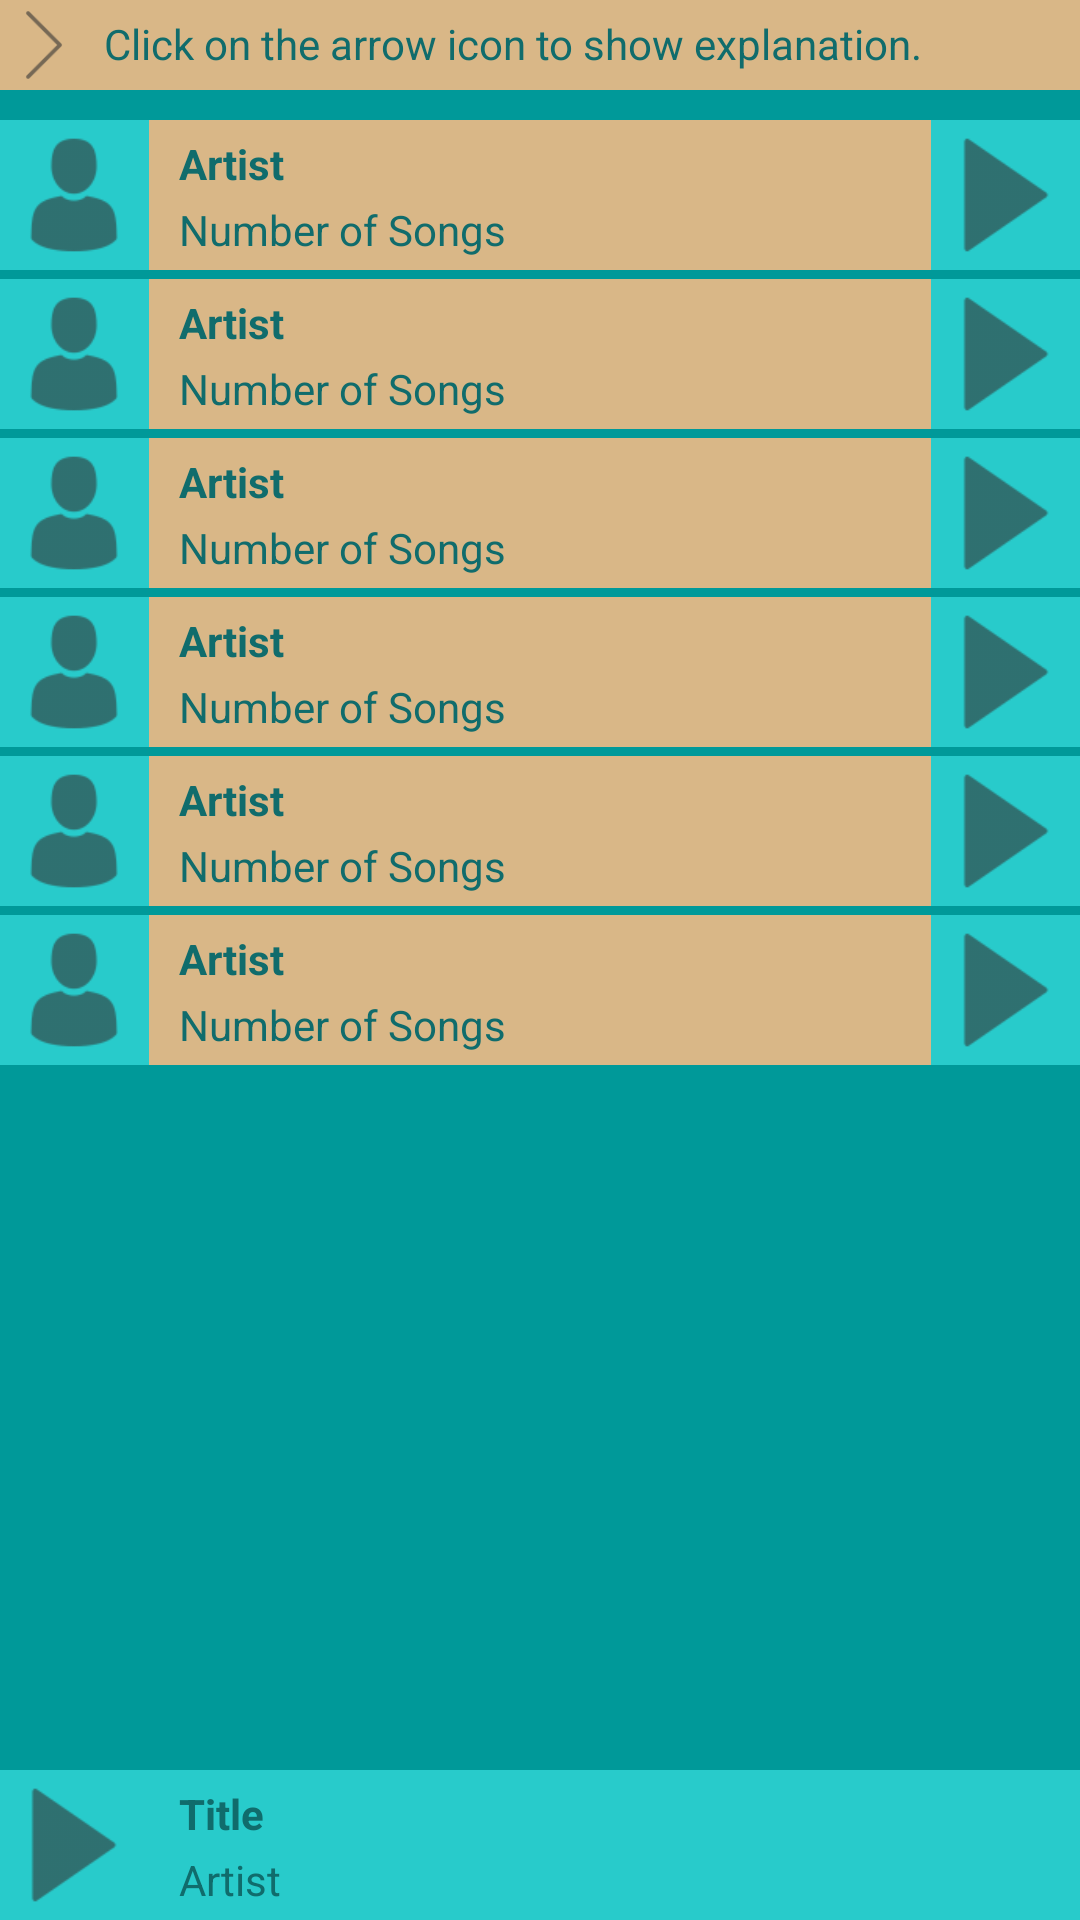

Point at icon controls on the screen. Image size 1080*1920, points as (x=x, y=y).
arrow side: (x=44, y=45)
play: (x=1005, y=195), (x=1005, y=354), (x=1005, y=513), (x=1005, y=672), (x=1005, y=831), (x=1005, y=990), (x=74, y=1845)
